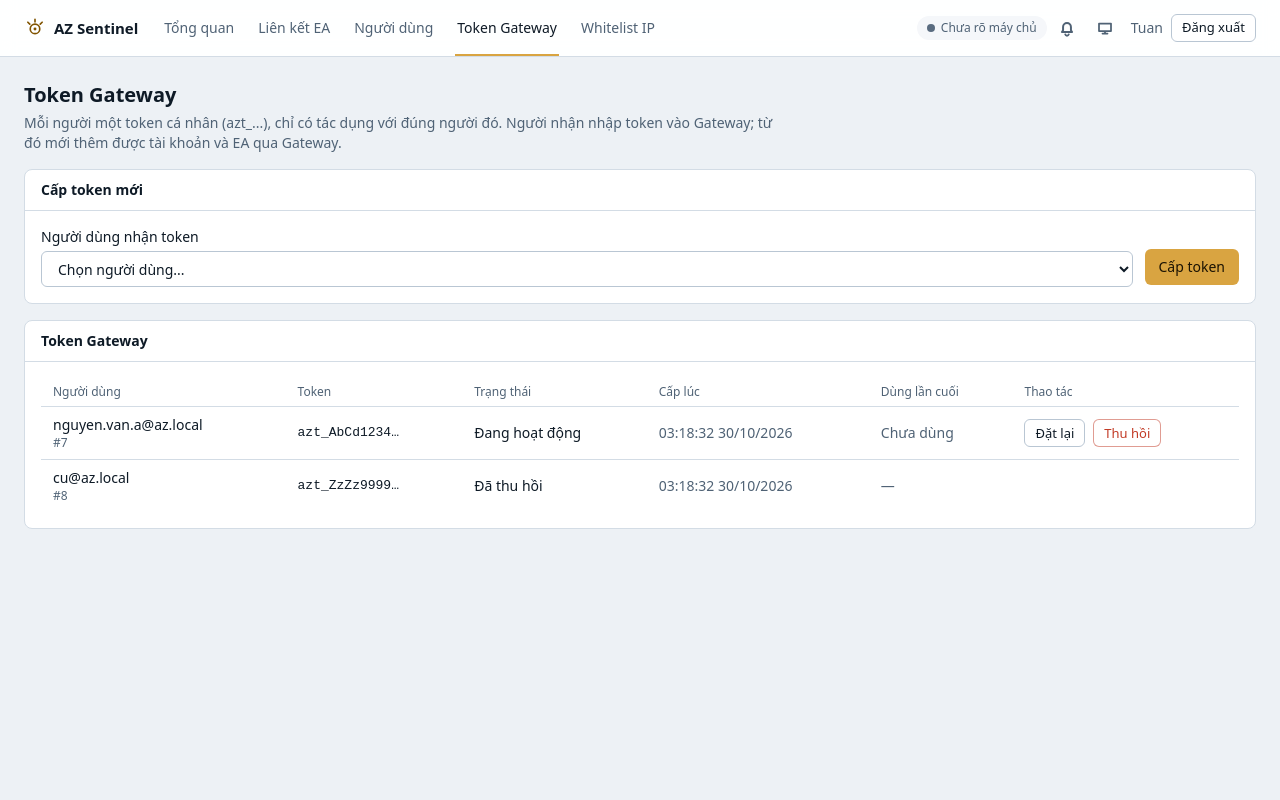
it: trang Token Gateway (admin) › cấp trùng người dùng: báo đã có token đang hoạt động
Select "Dũng (dũng@az.local)" in the dropdown labelled "Người dùng nhận token" at coordinates (587, 269), box x1=41 y1=251 x2=1132 y2=287
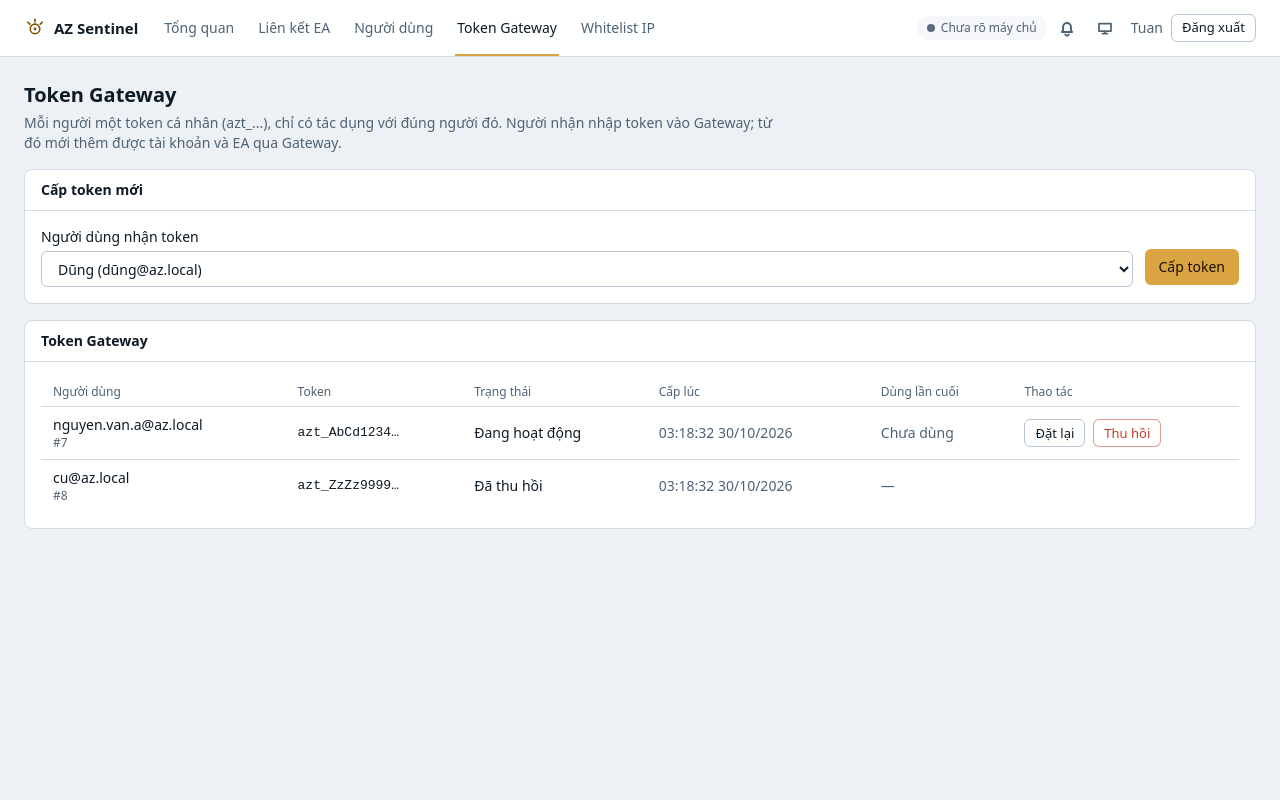
Click the button "Cấp token".
click(1192, 267)  # box x1=1144 y1=249 x2=1239 y2=285
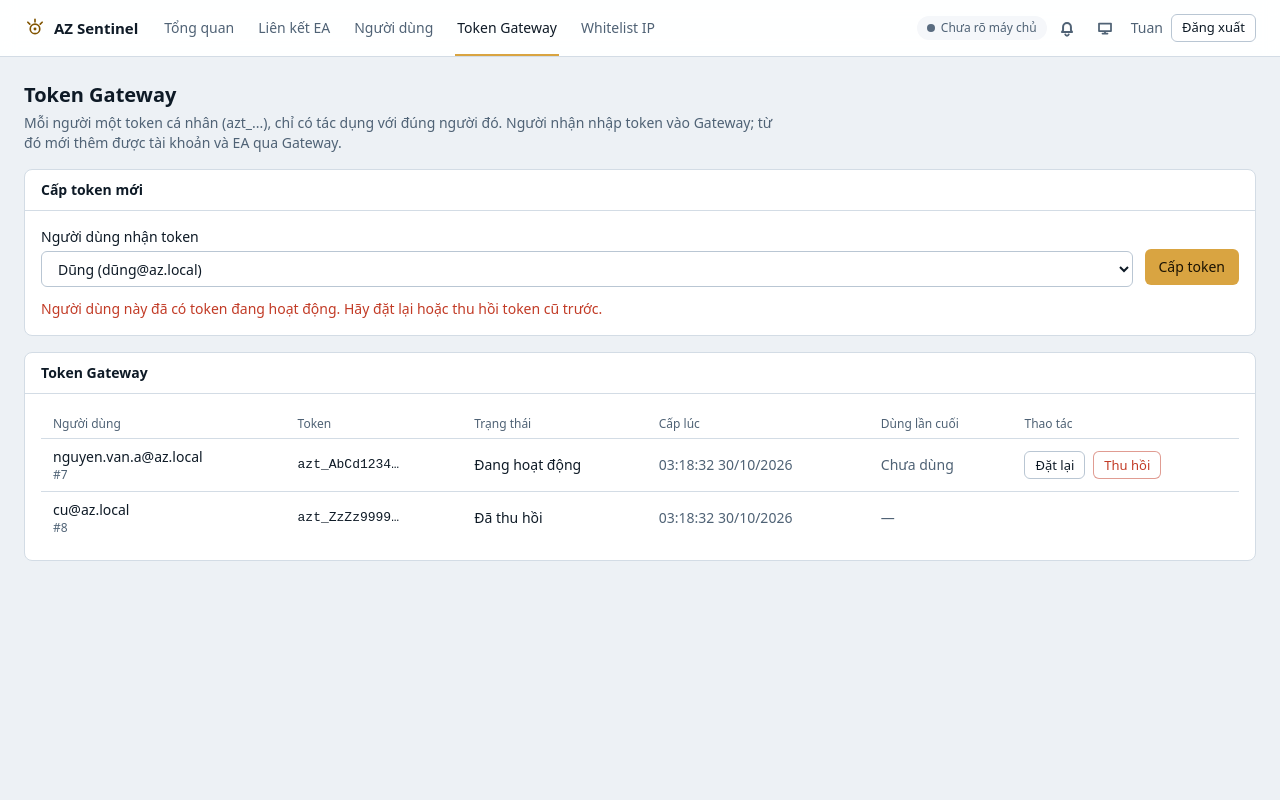
expect the text "Người dùng này đã có token đang hoạt động. Hãy đặt lại hoặc thu hồi token cũ trước." is shown: met, box x1=41 y1=299 x2=602 y2=318
